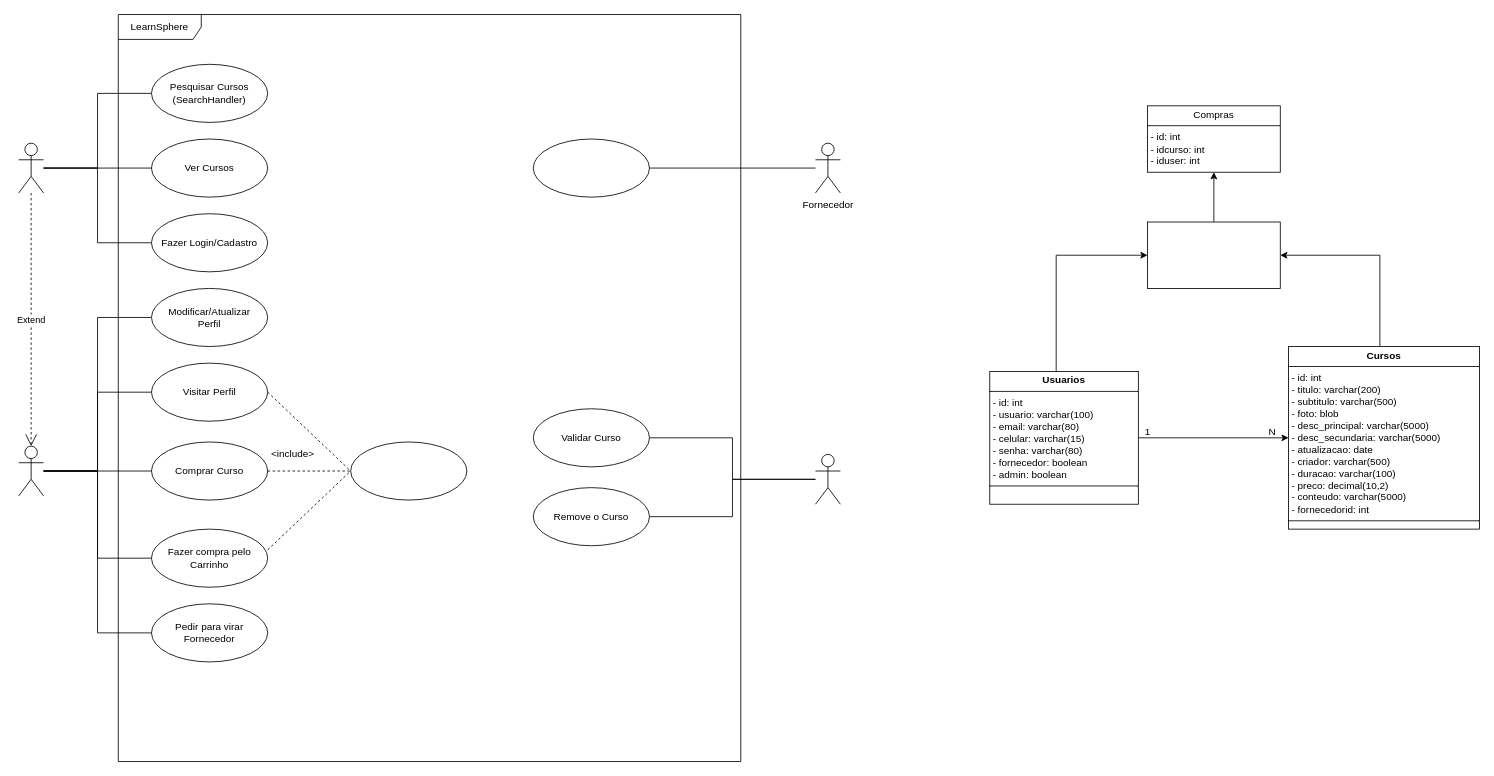
This 1494x776 diagram has some shape labels left out. The centre of each missing label's shape, as x and y in pixels:
"Admin" goes at pixel 827 479.
"Carrinho - id: int - idcurso: int - iduser: int" goes at pixel 1213 254.
"Logar na Conta" goes at pixel 408 470.
"Pessoa" goes at pixel 31 167.
"Usuário" goes at pixel 31 470.
"Vender Curso" goes at pixel 590 167.
